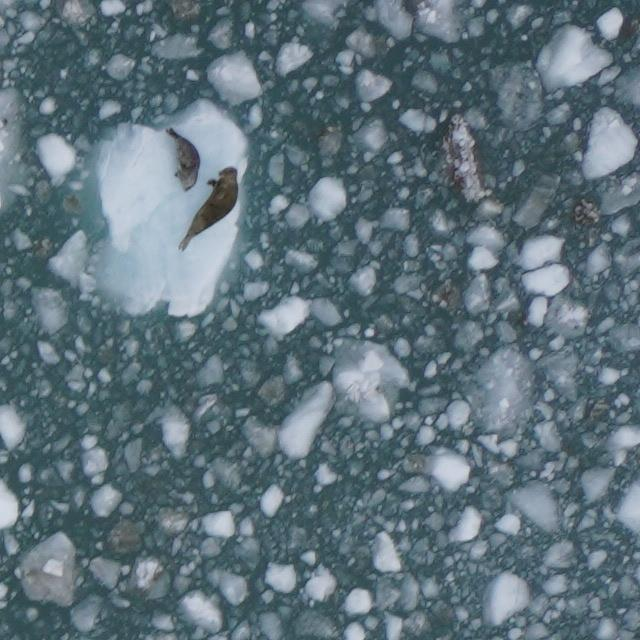seal: (176, 164, 242, 256), (162, 123, 202, 193)
